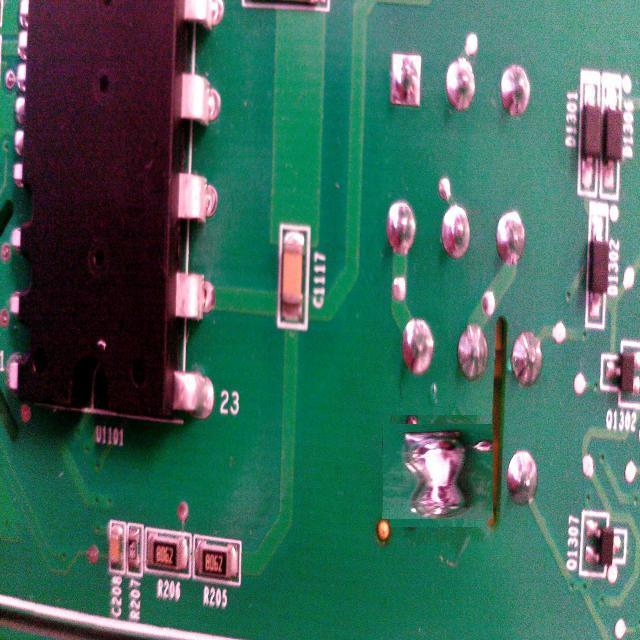Short_circuit: (386, 420, 489, 523)
